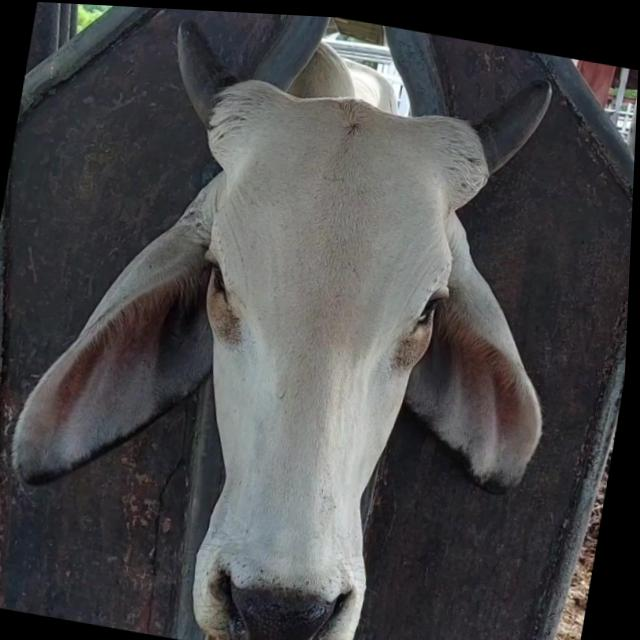cowFace: (143, 68, 468, 640)
